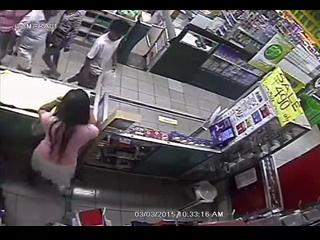Normal: (28, 88, 100, 194), (66, 20, 130, 91), (41, 10, 87, 80), (14, 10, 48, 74), (1, 10, 37, 68)
